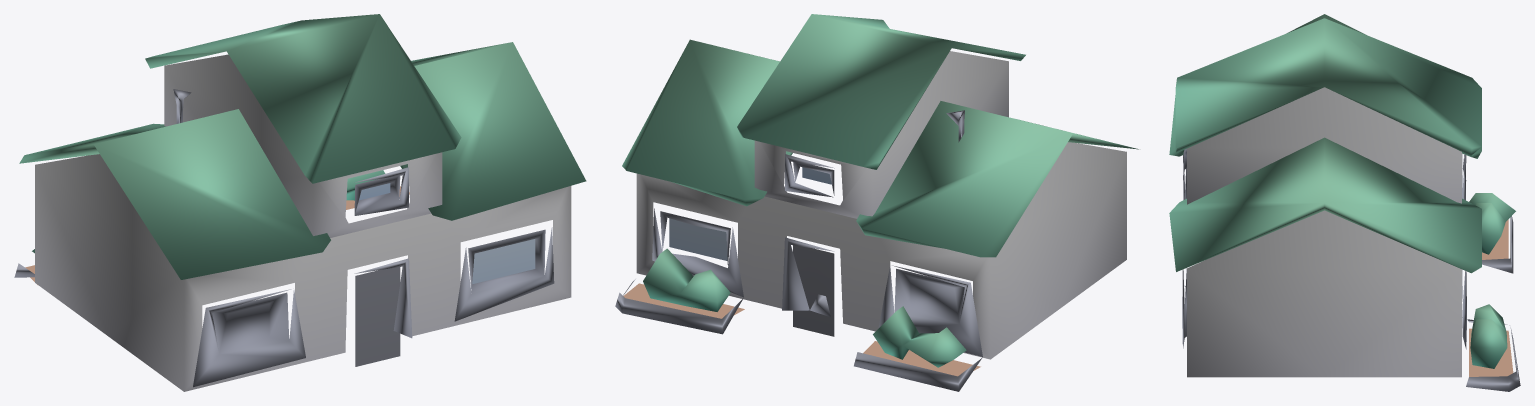
The picture shows the model from 3 angles, left to right: view 1: azimuth 30°, elevation 25°; view 2: azimuth 150°, elevation 25°; view 3: azimuth 270°, elevation 25°; orthographic projection. The views are drawn at different scales.
Size of the model in its own units: 10.4 by 6.5 by 8.17.
